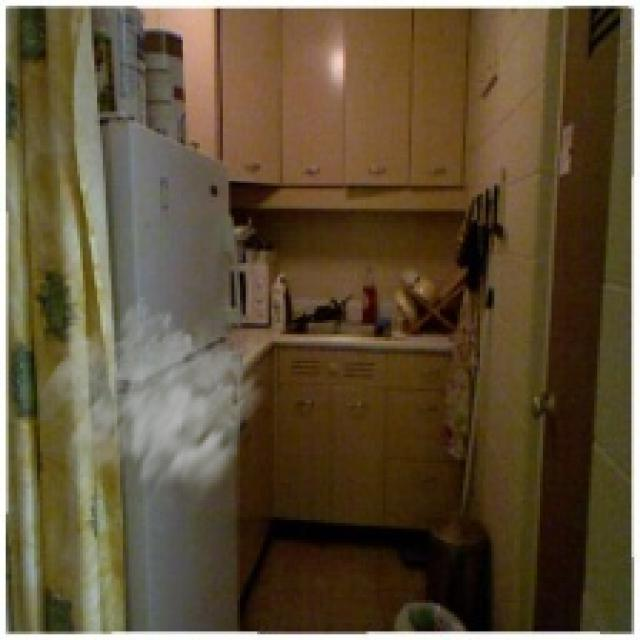smoke: (34, 294, 274, 532)
